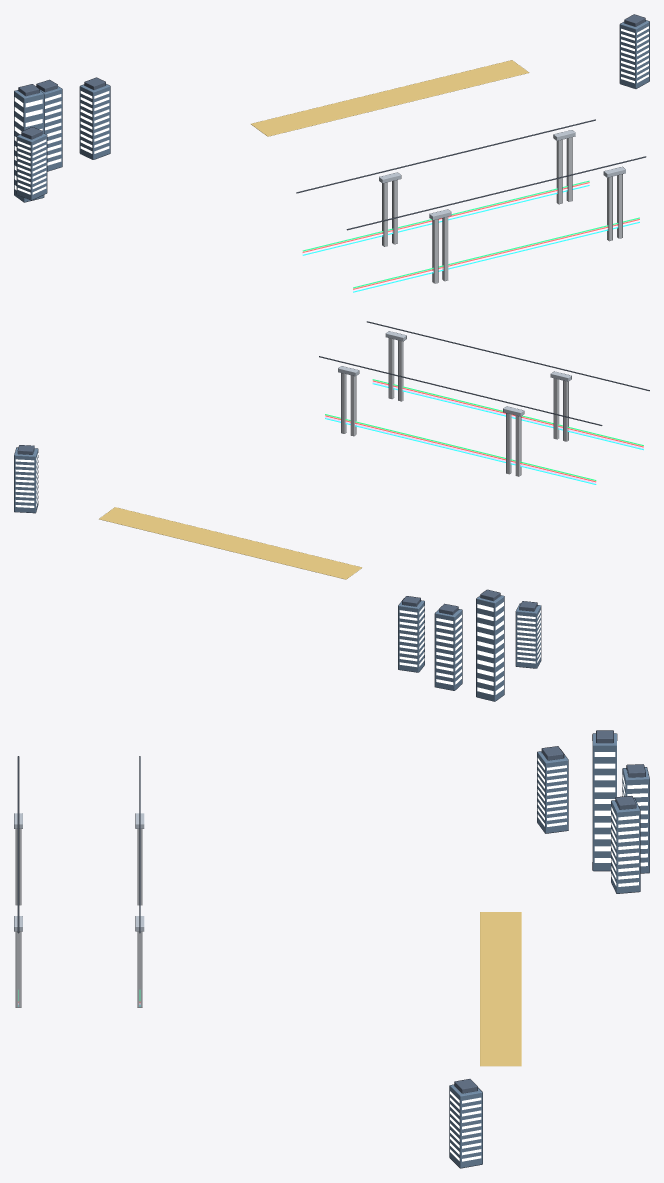
The model's file is busan.glb.
3 views of the same model, one above another, from view 1: azimuth 30°, elevation 25°; view 2: azimuth 150°, elevation 25°; view 3: azimuth 270°, elevation 25° (orthographic). The views are drawn at different scales.
Visible parts, largest first — view 1: gwangan_bridge, gwangalli_sand, haeundae2, haeundae3, haeundae4, haeundae0, haeundae1; view 2: gwangan_bridge, gwangalli_sand, haeundae0, haeundae1, haeundae2, haeundae3, haeundae4; view 3: gwangalli_sand, haeundae0, gwangan_bridge, haeundae4, haeundae2, haeundae3, haeundae1.
Part boxes in pixels (<box>): gwangan_bridge: <box>296,119,646,292</box>; gwangalli_sand: <box>251,60,529,136</box>; haeundae2: <box>79,77,110,159</box>; haeundae3: <box>16,127,47,200</box>; haeundae4: <box>619,14,649,88</box>; haeundae0: <box>14,84,44,202</box>; haeundae1: <box>36,79,62,171</box>; gwangan_bridge: <box>319,321,649,484</box>; gwangalli_sand: <box>99,507,362,579</box>; haeundae0: <box>476,589,504,701</box>; haeundae1: <box>434,603,462,690</box>; haeundae2: <box>398,596,424,672</box>; haeundae3: <box>515,601,541,668</box>; haeundae4: <box>14,445,38,513</box>; gwangalli_sand: <box>480,912,521,1066</box>; haeundae0: <box>592,730,617,871</box>; gwangan_bridge: <box>14,756,144,1007</box>; haeundae4: <box>449,1079,482,1168</box>; haeundae2: <box>611,796,640,893</box>; haeundae3: <box>537,746,568,833</box>; haeundae1: <box>622,764,649,873</box>.
Bounding box in the file's own units: 475 × 97.65 × 367.
